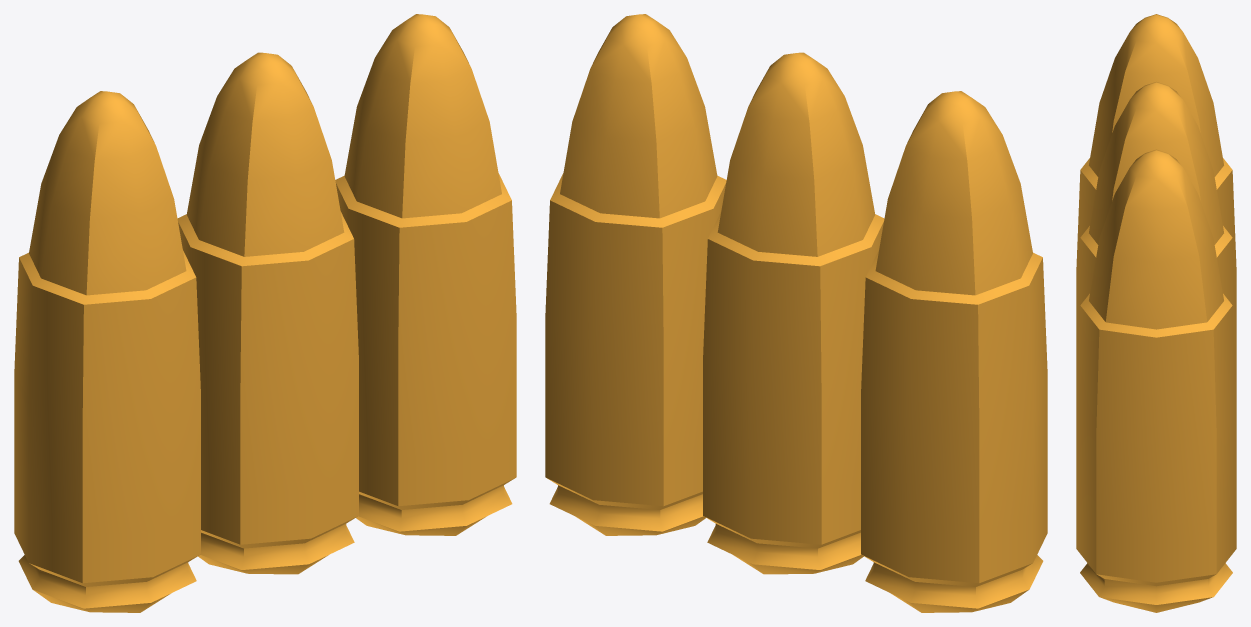
The model's file is cc0-pickup-bullets-lod0.glb.
3 renders of one model, left to right at view 1: azimuth 30°, elevation 25°; view 2: azimuth 150°, elevation 25°; view 3: azimuth 270°, elevation 25°, orthographic. The views are drawn at different scales.
Parts seen in each view (by area): view 1: part_0; view 2: part_0; view 3: part_0.
Boxes of the visible parts, <box> form: part_0: <box>14,14,516,612</box>; part_0: <box>545,14,1047,612</box>; part_0: <box>1076,14,1236,612</box>.
Size of the model in its own units: 0.8284 by 0.8421 by 0.2761.
Materials: 1 (1 with a texture image).
